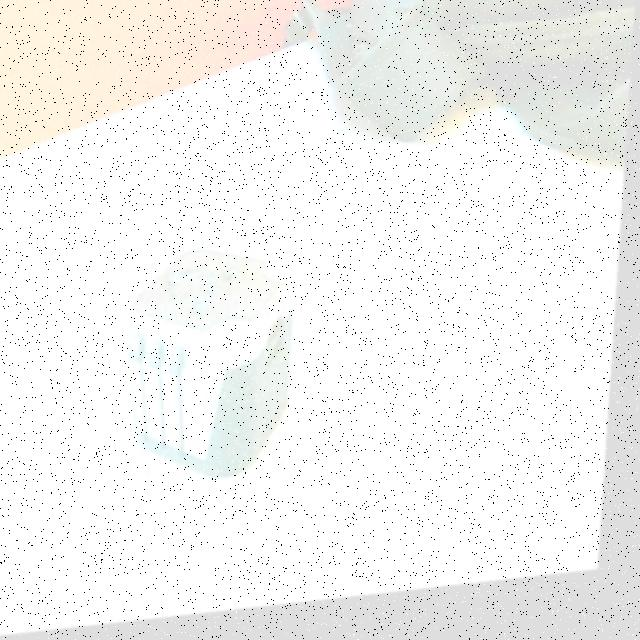adapter: (120, 240, 304, 492)
